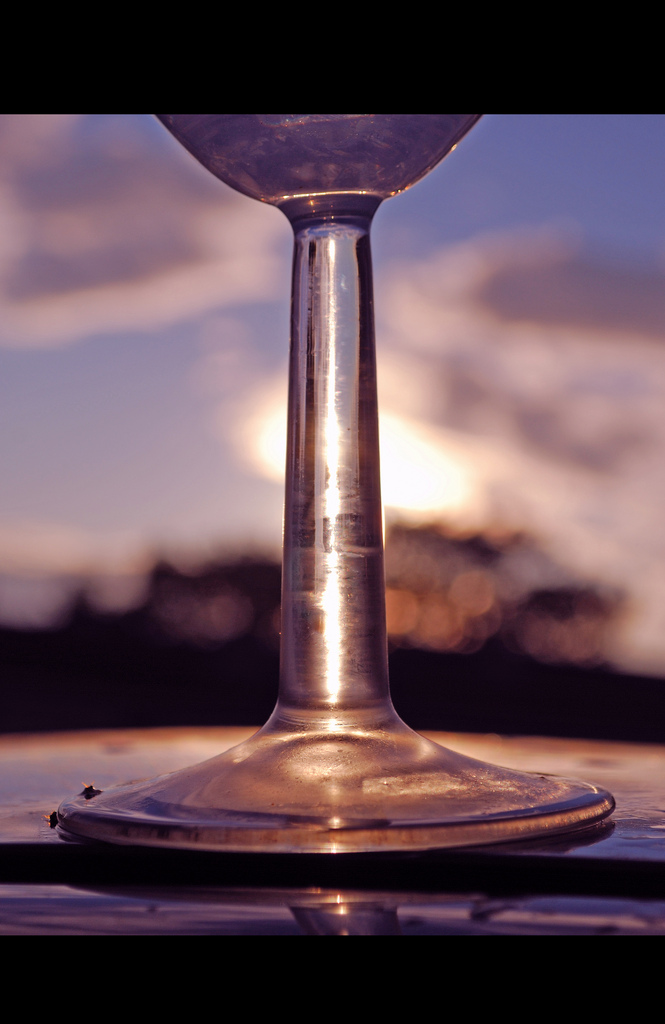glass of water: (185, 114, 549, 844)
